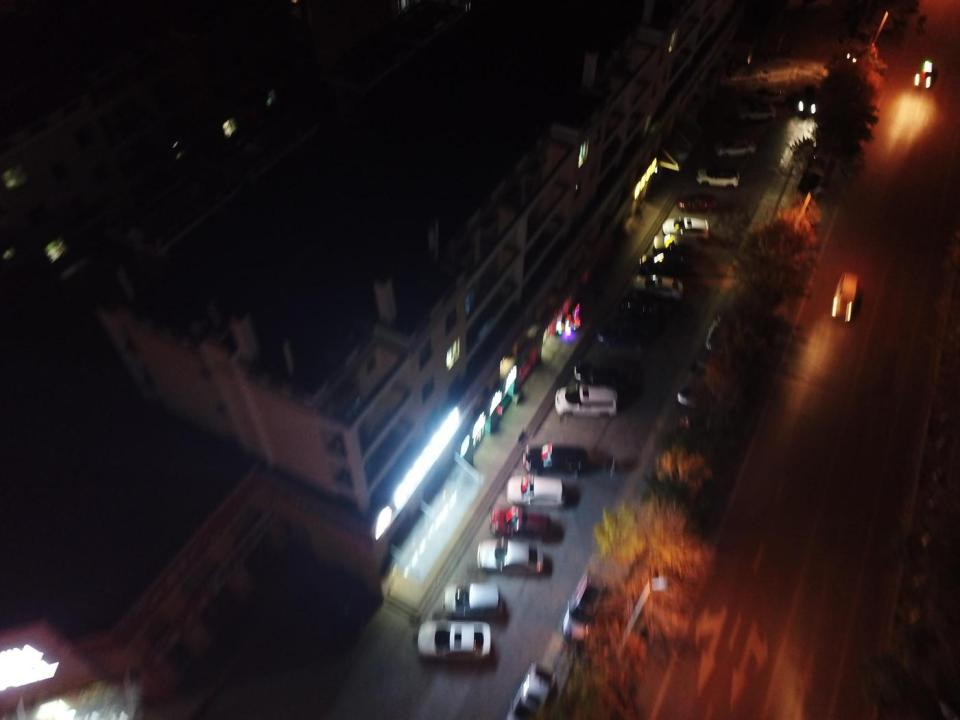car: (563, 573, 610, 642), (417, 618, 492, 660), (507, 663, 556, 720), (477, 538, 546, 575), (522, 442, 587, 479), (555, 385, 617, 419), (490, 505, 550, 536), (441, 583, 500, 614), (677, 360, 714, 409), (505, 475, 562, 506), (597, 320, 650, 351), (574, 361, 627, 390), (706, 307, 736, 354), (632, 274, 684, 300), (832, 272, 857, 322), (639, 252, 689, 276), (618, 297, 666, 321), (662, 216, 709, 239), (654, 234, 702, 254), (696, 166, 738, 187), (712, 136, 756, 155), (677, 194, 716, 213), (736, 102, 776, 120), (797, 84, 819, 116), (913, 58, 934, 88), (749, 88, 785, 105)
